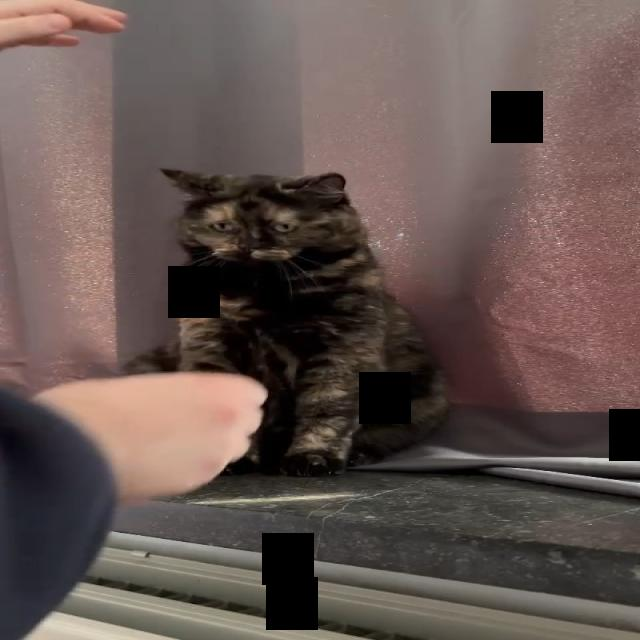authorized: (122, 167, 450, 477)
